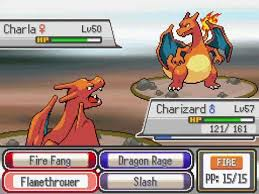charizard: (20, 73, 109, 147), (157, 10, 234, 91)
